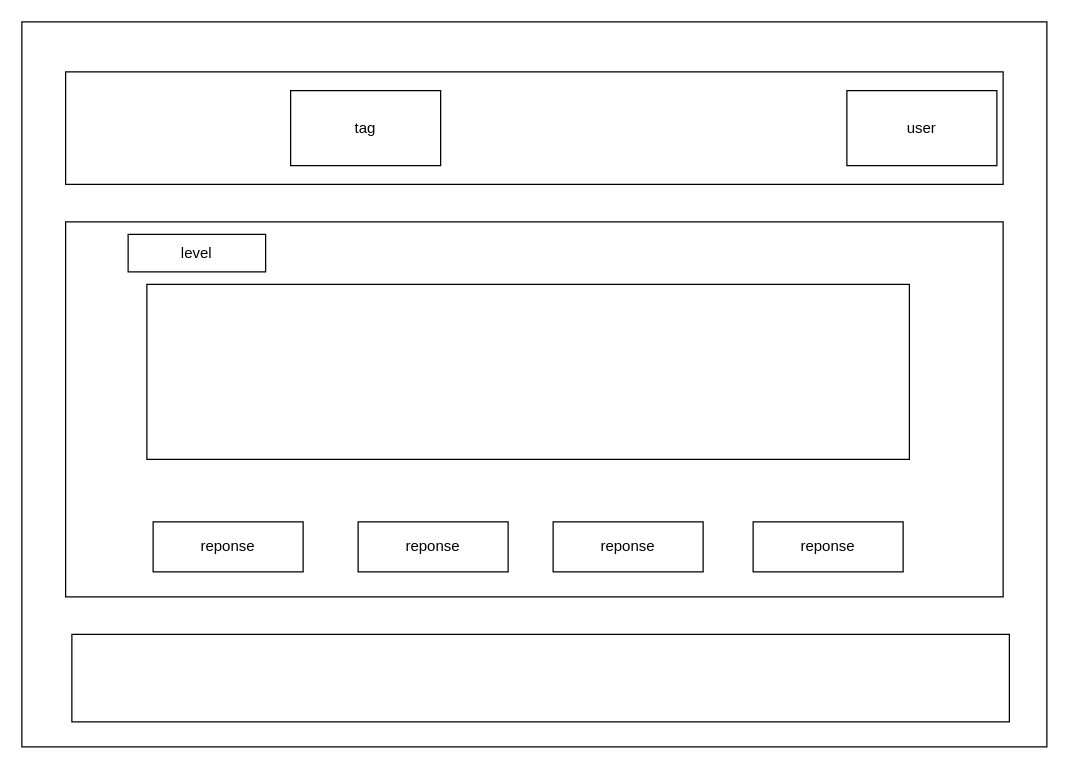
Some shapes in this 1069 by 769 pixel diagram are drawn without their labels. The box of each missing label's shape, as (x1, y1, x2, y2) in pixels:
OSEF: (71, 633, 1009, 722)
question: (146, 283, 909, 459)
titre quiz: (64, 71, 1003, 184)
